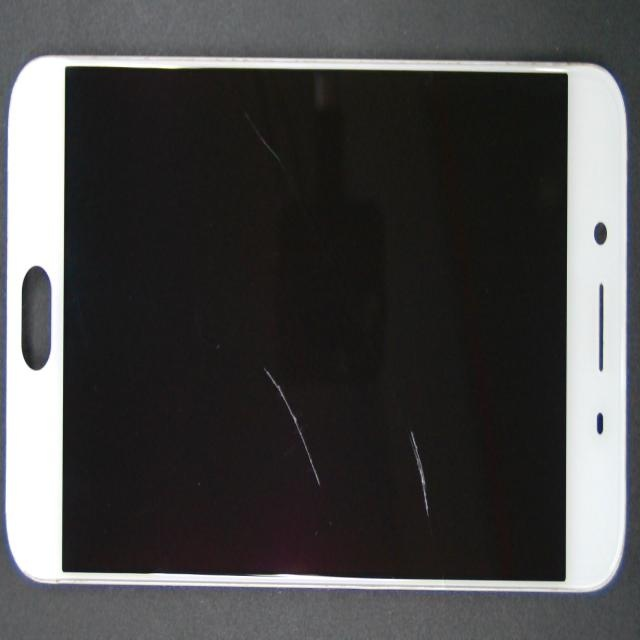scratch: (224, 289, 640, 640), (168, 284, 483, 640)
